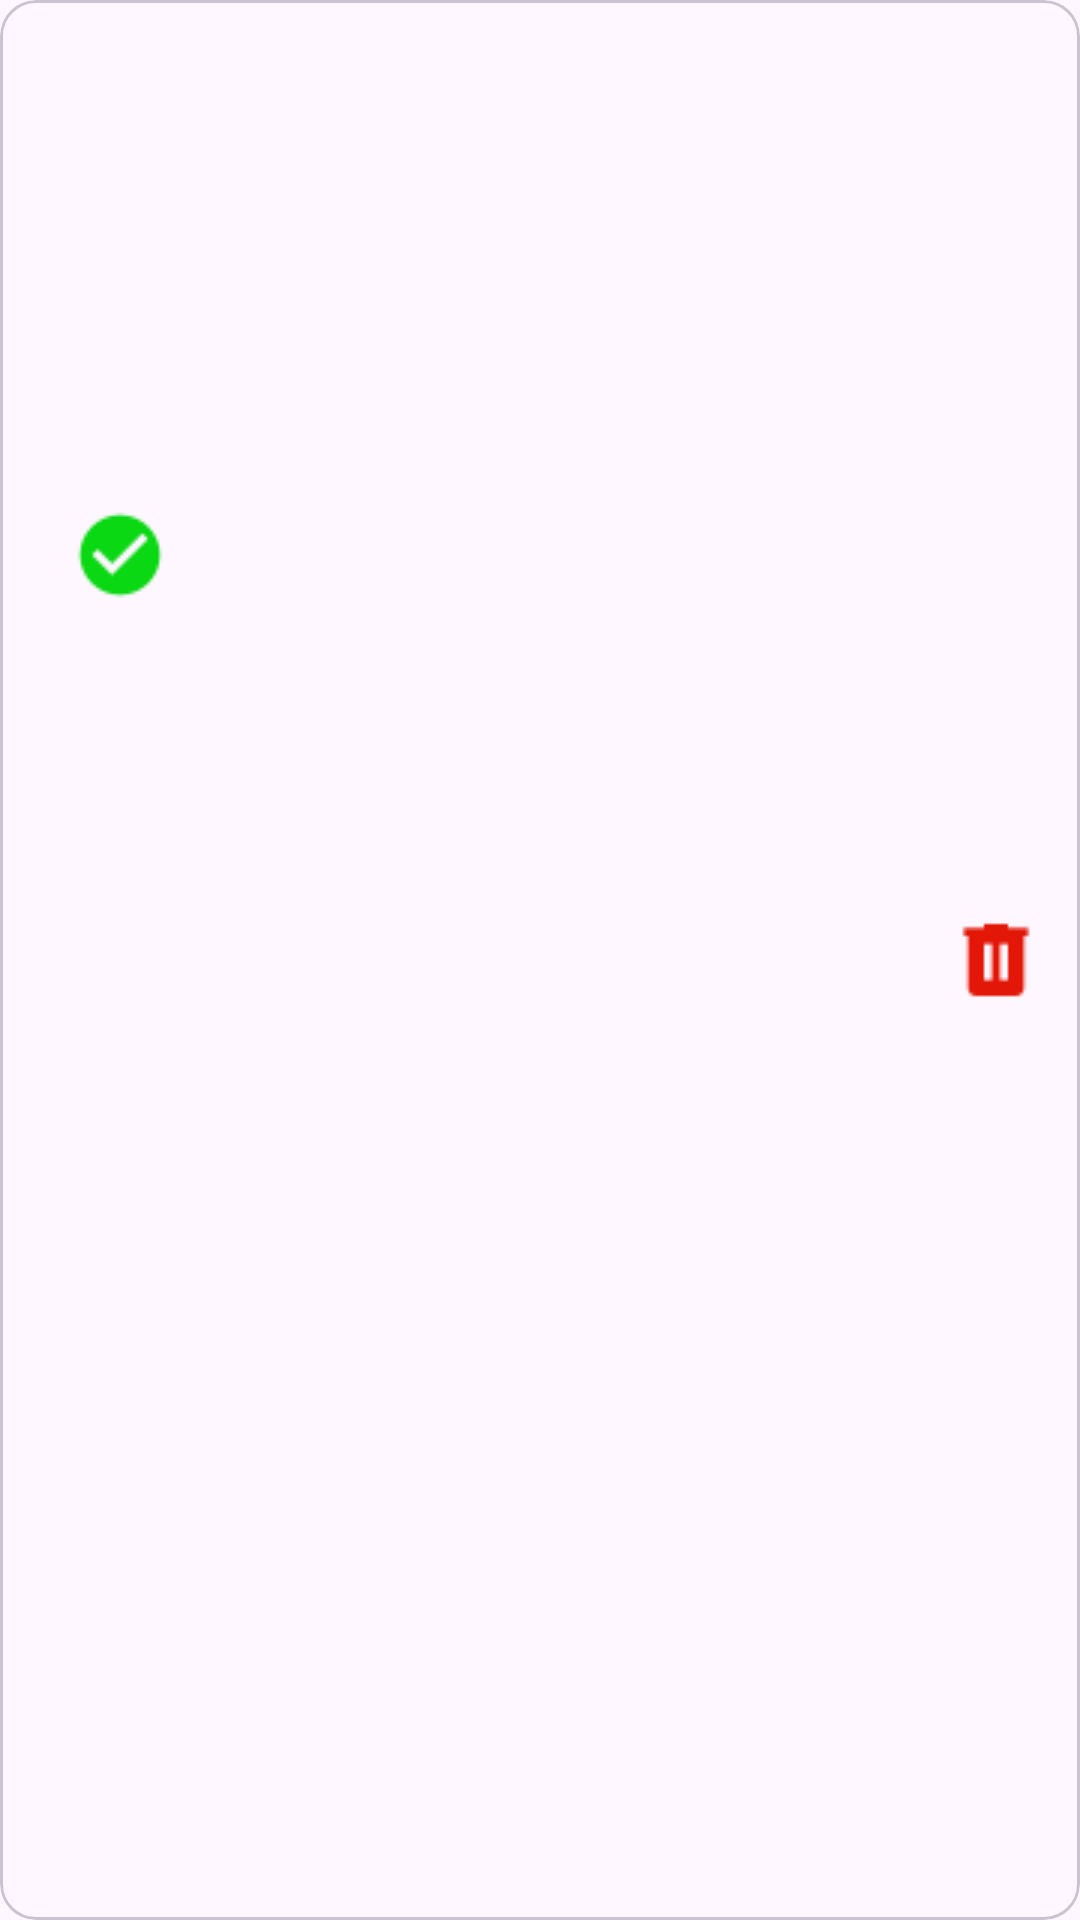

Icons on this 1080 x 1920 Android screen, each with the point to tap as (x,y):
checkcircle: (120,555)
trash: (996,960)
